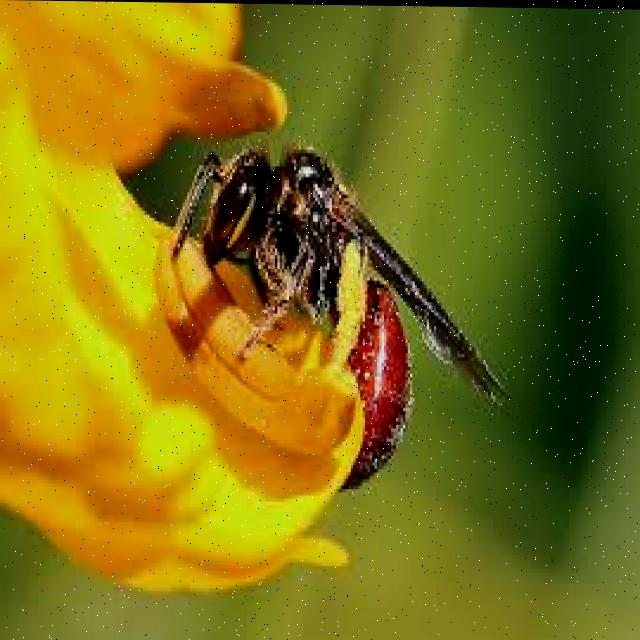Allodapula: (161, 111, 519, 524)
